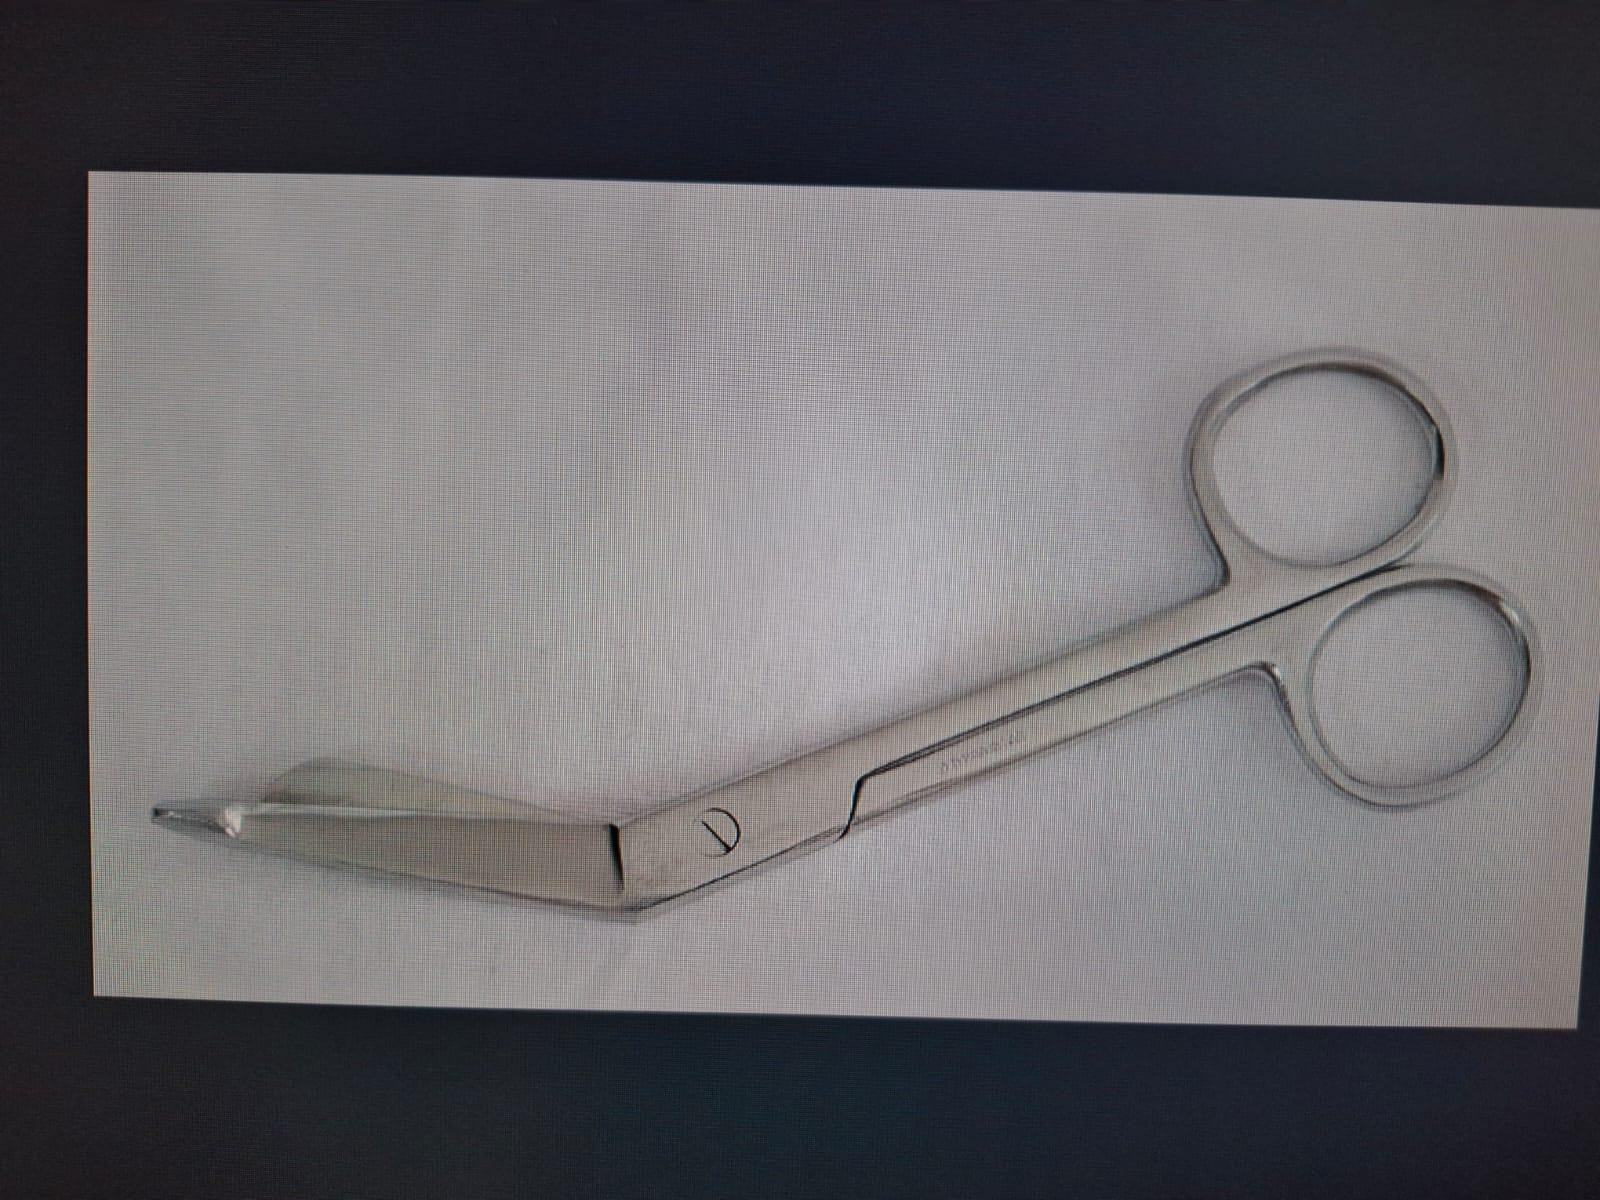Bandage Sciccors: (144, 350, 1542, 934)
